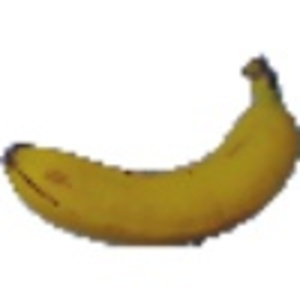banana: (2, 55, 299, 246)
